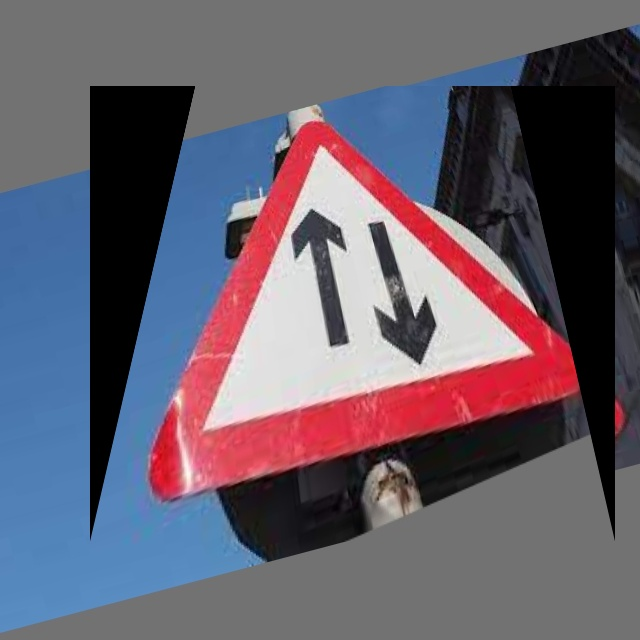Mandatory_Two_Way_Traffic: (90, 86, 615, 542)
